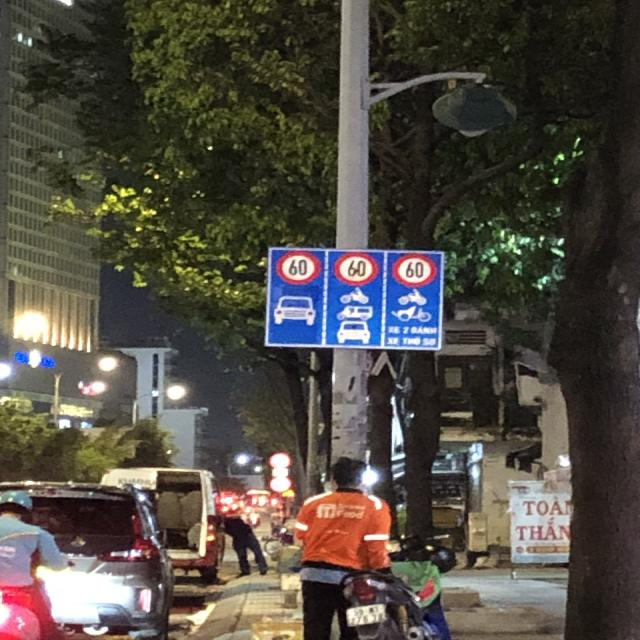Bien bao toc do toi da cho phep: (272, 248, 331, 289), (328, 248, 384, 290), (390, 248, 439, 290)
